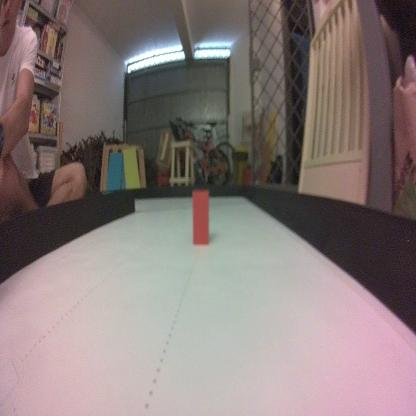red: (190, 187, 211, 247)
